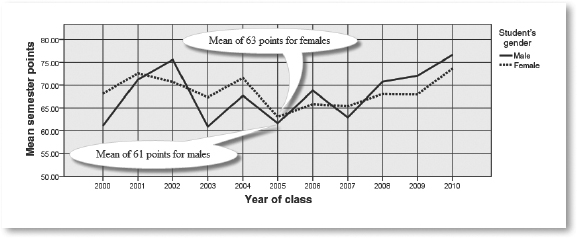OK_NoIssue: (15, 14, 547, 210)
